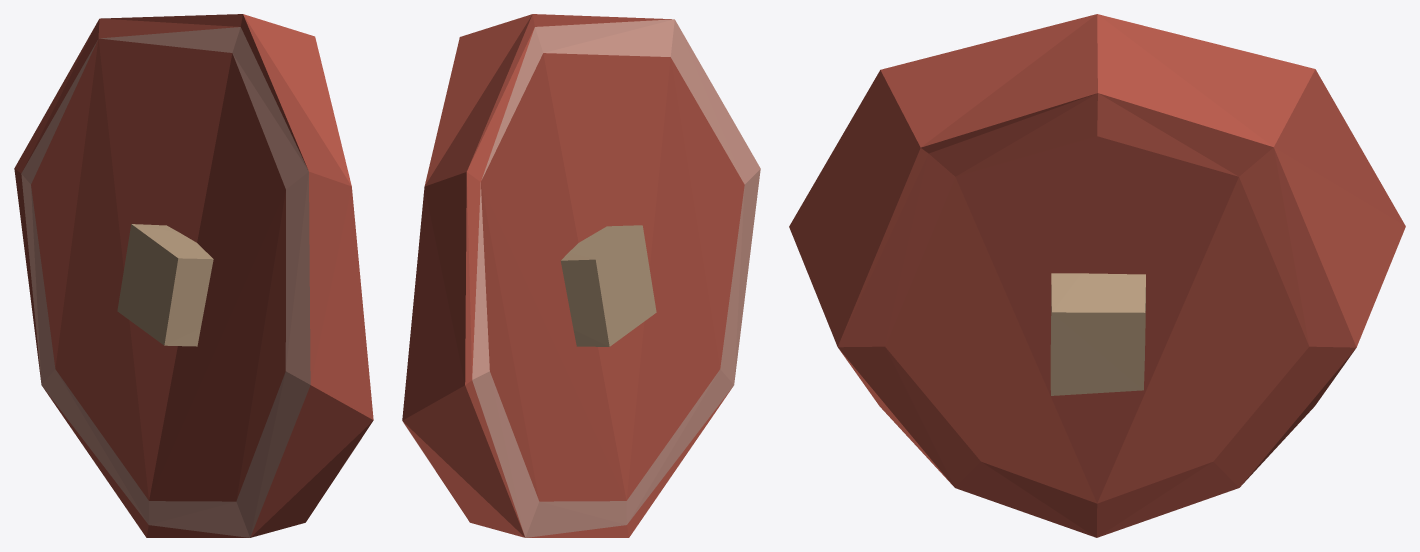
The model's file is hamCut01.fbx.
3 views of the same model, side by side, from view 1: azimuth 30°, elevation 25°; view 2: azimuth 150°, elevation 25°; view 3: azimuth 270°, elevation 25° (orthographic). The views are drawn at different scales.
Visible parts, largest first — view 1: hamCut01; view 2: hamCut01; view 3: hamCut01.
Boxes of the visible parts, <box> form: hamCut01: <box>14,14,373,537</box>; hamCut01: <box>402,14,760,537</box>; hamCut01: <box>789,14,1405,537</box>.
Size of the model in its own units: 7.02 by 19.17 by 20.53.
1 material, 1 textured.
